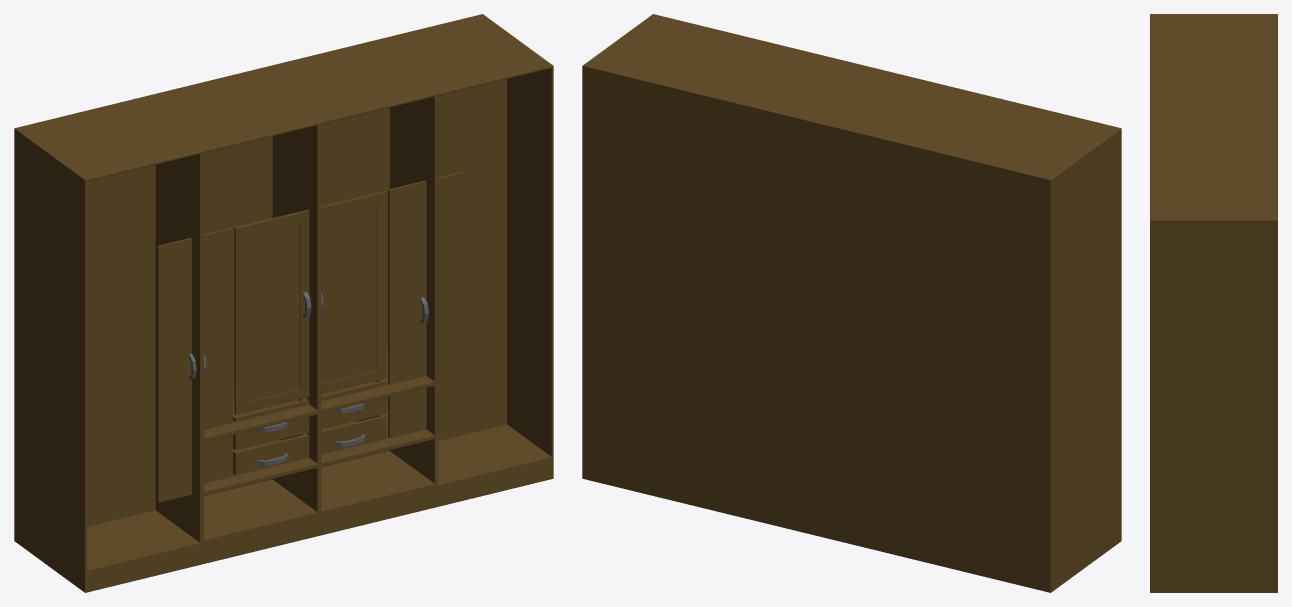
File: wadrobe.glb
3 renders of one model, left to right at view 1: azimuth 30°, elevation 25°; view 2: azimuth 150°, elevation 25°; view 3: azimuth 270°, elevation 25°, orthographic. The views are drawn at different scales.
Visible parts, largest first — view 1: LargeWardrobe1, ClosetDoorRight2_LargeWardrobe1, ClosetDoorLeft2_LargeWardrobe1, ClosetDoorRight3_LargeWardrobe1, ClosetDoorRight1_LargeWardrobe1, ClosetDoorLeft1_LargeWardrobe1, ClosetDoorLeft3_LargeWardrobe1, Drawer2_LargeWardrobe1, Drawer1_LargeWardrobe1, Drawer4_LargeWardrobe1, Drawer3_LargeWardrobe1; view 2: LargeWardrobe1; view 3: LargeWardrobe1.
Boxes of the visible parts, <box> form: LargeWardrobe1: <box>14,14,553,592</box>; ClosetDoorRight2_LargeWardrobe1: <box>234,209,311,414</box>; ClosetDoorLeft2_LargeWardrobe1: <box>321,190,386,393</box>; ClosetDoorRight3_LargeWardrobe1: <box>388,180,428,438</box>; ClosetDoorRight1_LargeWardrobe1: <box>157,238,196,502</box>; ClosetDoorLeft1_LargeWardrobe1: <box>204,228,232,483</box>; ClosetDoorLeft3_LargeWardrobe1: <box>438,171,463,434</box>; Drawer2_LargeWardrobe1: <box>233,433,309,475</box>; Drawer1_LargeWardrobe1: <box>233,390,309,450</box>; Drawer4_LargeWardrobe1: <box>321,414,386,454</box>; Drawer3_LargeWardrobe1: <box>321,379,386,429</box>; LargeWardrobe1: <box>582,14,1121,592</box>; LargeWardrobe1: <box>1150,14,1277,592</box>.
Bounding box in the file's own units: 3.8 × 3.2 × 0.9931.
